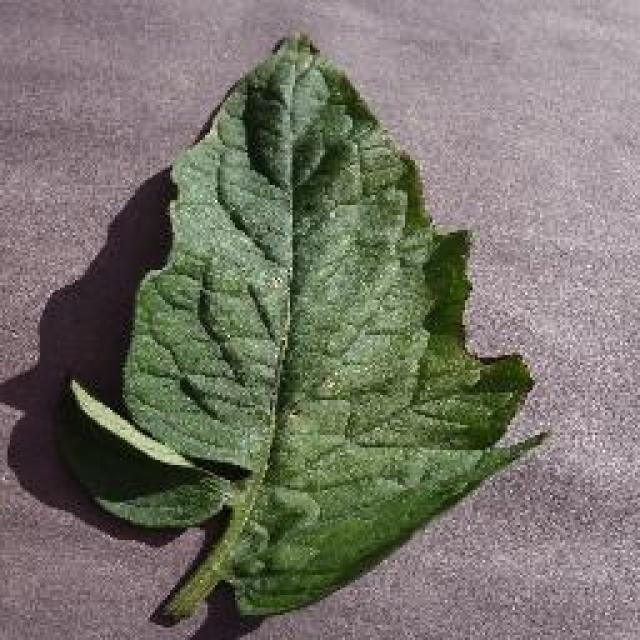Tomato___Target_Spot: (60, 35, 542, 622)
